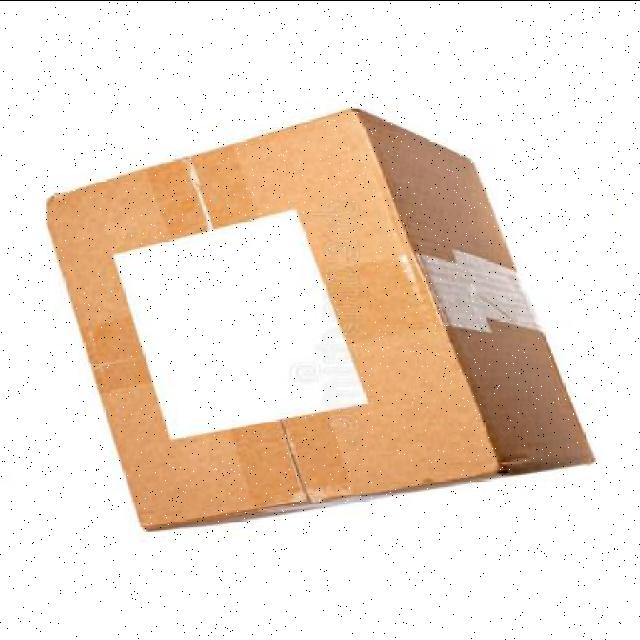normal: (39, 95, 606, 543)
